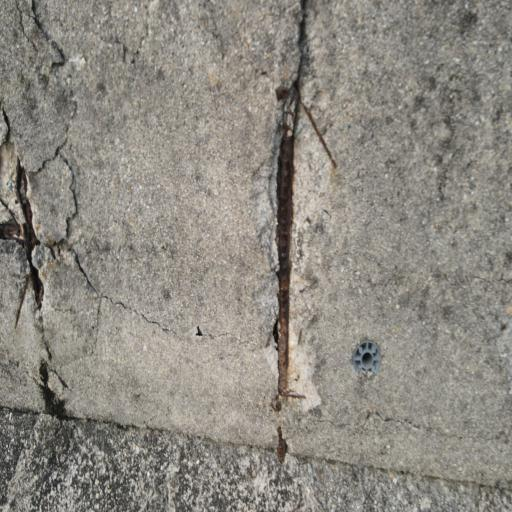exposed_rebar: (277, 87, 299, 396), (0, 158, 44, 309), (39, 361, 67, 420), (276, 427, 287, 462)
